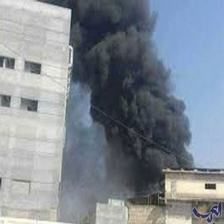fire: (93, 50, 194, 170)
